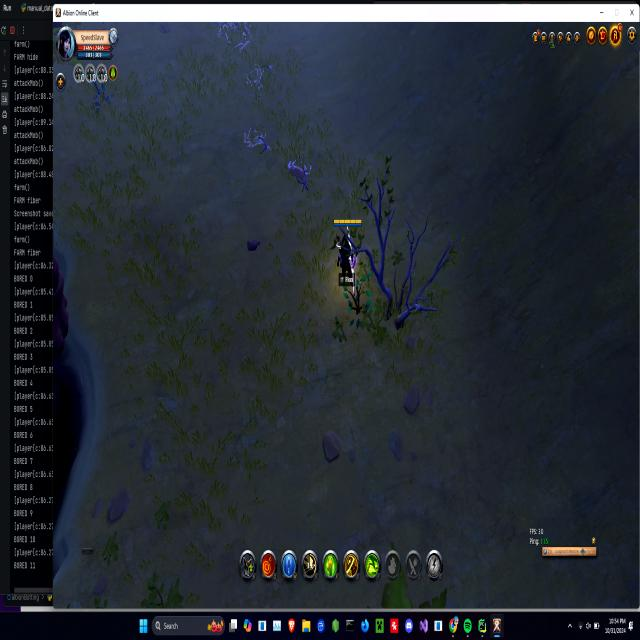ore: (287, 153, 314, 195)
red: (332, 217, 361, 288)
